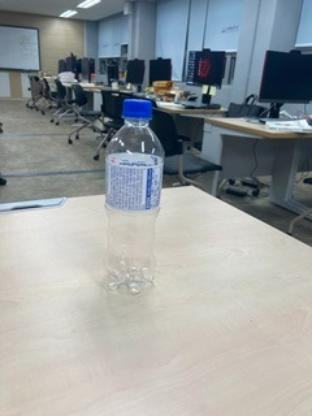Plastic Bottle: (102, 93, 166, 301)
